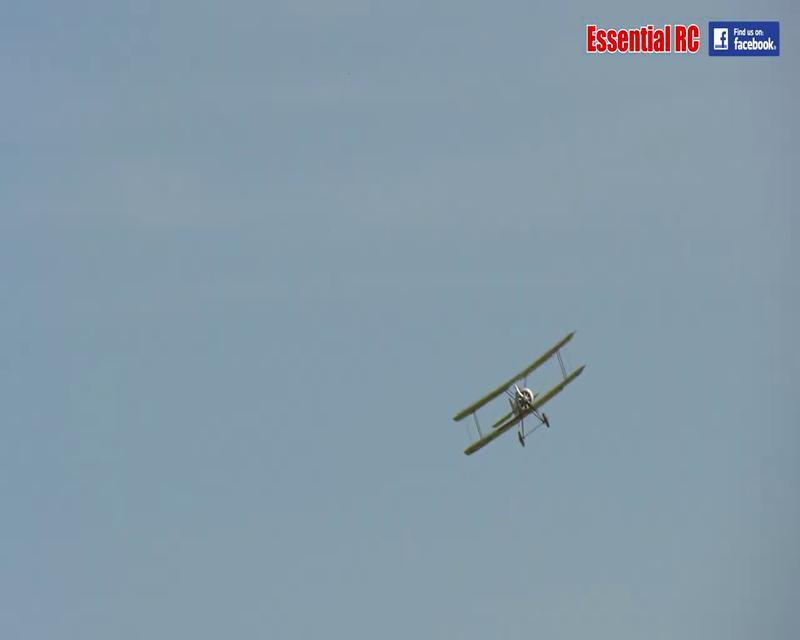UAV: (451, 328, 586, 456)
